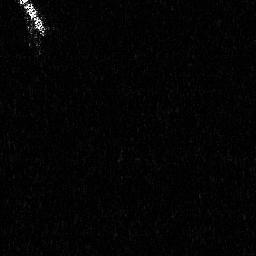ship: (15, 1, 46, 38)
